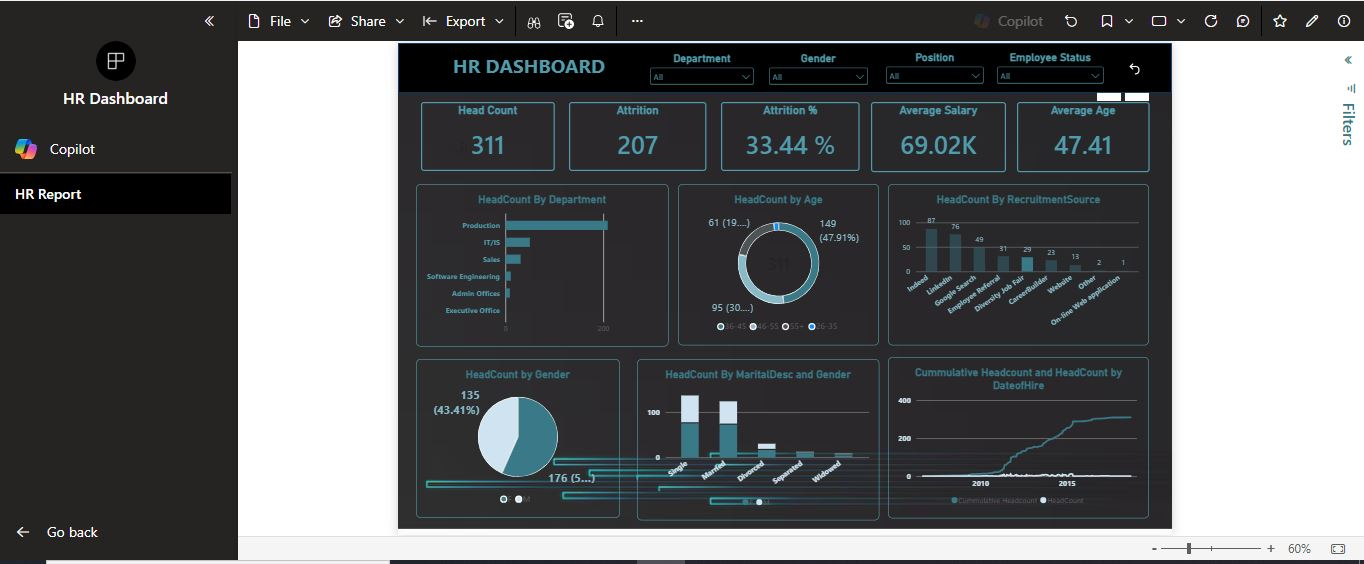

What the dashboard file says about the page in this screenshot:
{"tool":"powerbi","page":{"name":"Page 1","canvas":[1290,820],"ordinal":0},"visuals":[{"type":"cardVisual","title":"Head Count","fields":{"Data":["HRDataset.HeadCount"]},"box":[37.5,97.9,222.9,114.6],"z":0,"group":"g1"},{"type":"cardVisual","title":"Attrition","fields":{"Data":["Sum(HRDataset.Attritions 2)"]},"box":[283.3,97.9,229.2,114.6],"z":1,"group":"g1"},{"type":"cardVisual","title":"Attrition %","fields":{"Data":["HRDataset.Attrition %"]},"box":[537.5,97.9,231.2,114.6],"z":2,"group":"g1"},{"type":"cardVisual","title":"Average Salary","fields":{"Data":["HRDataset.Average Salary"]},"box":[787.5,97.9,225,116.7],"z":3,"group":"g1"},{"type":"cardVisual","title":"Average Age","fields":{"Data":["HRDataset.Average Age"]},"box":[1031.3,97.9,220.8,116.7],"z":4,"group":"g1"},{"type":"clusteredBarChart","title":"HeadCount By Department","fields":{"Category":["HRDataset.Department"],"Y":["HRDataset.HeadCount"]},"box":[29.2,235.4,420.8,270.8],"z":5},{"type":"donutChart","fields":{"Category":["HRDataset.Age Bracket"],"Y":["HRDataset.HeadCount"]},"box":[466.7,235.4,335.4,268.8],"z":6},{"type":"columnChart","title":"HeadCount By MaritalDesc and Gender","fields":{"Category":["HRDataset.MaritalDesc"],"Series":["HRDataset.Gender"],"Y":["HRDataset.HeadCount"]},"box":[397.9,527.1,404.2,268.8],"z":7},{"type":"lineChart","fields":{"Category":["HRDataset.DateofHire"],"Y":["HRDataset.Cummulative Headcount","HRDataset.HeadCount"]},"box":[816.7,522.9,435.4,268.8],"z":8},{"type":"columnChart","title":"HeadCount By RecruitmentSource","fields":{"Category":["HRDataset.RecruitmentSource"],"Y":["HRDataset.HeadCount"]},"box":[816.7,235.4,435.4,268.8],"z":9},{"type":"group","id":"g1","title":"Group 1","box":[37.5,97.9,1214.6,116.7],"z":10},{"type":"pieChart","fields":{"Category":["HRDataset.Gender"],"Y":["HRDataset.HeadCount"]},"box":[29.2,527.1,339.6,264.6],"z":11},{"type":"slicer","title":"Gender","fields":{"Values":["HRDataset.Gender"]},"box":[612.5,14.6,175,66.7],"z":12,"group":"g2"},{"type":"slicer","title":"Position","fields":{"Values":["HRDataset.Position"]},"box":[808.4,12.5,172.9,68.8],"z":13,"group":"g2"},{"type":"slicer","title":"Department","fields":{"Values":["HRDataset.Department"]},"box":[414.6,14.6,183.3,68.8],"z":14,"group":"g2"},{"type":"slicer","title":"Employee Status","fields":{"Values":["HRDataset.EmploymentStatus"]},"box":[993.8,12.5,187.5,68.8],"z":15,"group":"g2"},{"type":"textbox","box":[91.7,156.2,308.3,243.8],"z":16},{"type":"textbox","box":[91.7,14.6,254.2,83.3],"z":17,"group":"g2"},{"type":"shape","box":[0,0,1289.6,83.3],"z":18},{"type":"group","id":"g2","title":"Group 2","box":[91.7,12.5,1089.6,85.4],"z":19},{"type":"actionButton","box":[1181.2,14.6,91.7,56.2],"z":20}]}

Visuals, with their boxes on the page's 1290x820 design canvas (x1, y1, x2, y2). These are canvas units, not pixel positions in the 1364x564 screenshot, which may show the page scaled, cropped or inside an application window:
"Head Count" cardVisual: bbox(38, 98, 260, 212)
"Attrition" cardVisual: bbox(283, 98, 512, 212)
"Attrition %" cardVisual: bbox(538, 98, 769, 212)
"Average Salary" cardVisual: bbox(788, 98, 1012, 215)
"Average Age" cardVisual: bbox(1031, 98, 1252, 215)
"HeadCount By Department" clusteredBarChart: bbox(29, 235, 450, 506)
donutChart - HRDataset.Age Bracket x HRDataset.HeadCount: bbox(467, 235, 802, 504)
"HeadCount By MaritalDesc and Gender" columnChart: bbox(398, 527, 802, 796)
lineChart - HRDataset.DateofHire x HRDataset.Cummulative Headcount: bbox(817, 523, 1252, 792)
"HeadCount By RecruitmentSource" columnChart: bbox(817, 235, 1252, 504)
"Group 1" group: bbox(38, 98, 1252, 215)
pieChart - HRDataset.Gender x HRDataset.HeadCount: bbox(29, 527, 369, 792)
"Gender" slicer: bbox(612, 15, 788, 81)
"Position" slicer: bbox(808, 12, 981, 81)
"Department" slicer: bbox(415, 15, 598, 83)
"Employee Status" slicer: bbox(994, 12, 1181, 81)
textbox: bbox(92, 156, 400, 400)
textbox: bbox(92, 15, 346, 98)
shape: bbox(0, 0, 1290, 83)
"Group 2" group: bbox(92, 12, 1181, 98)
actionButton: bbox(1181, 15, 1273, 71)
